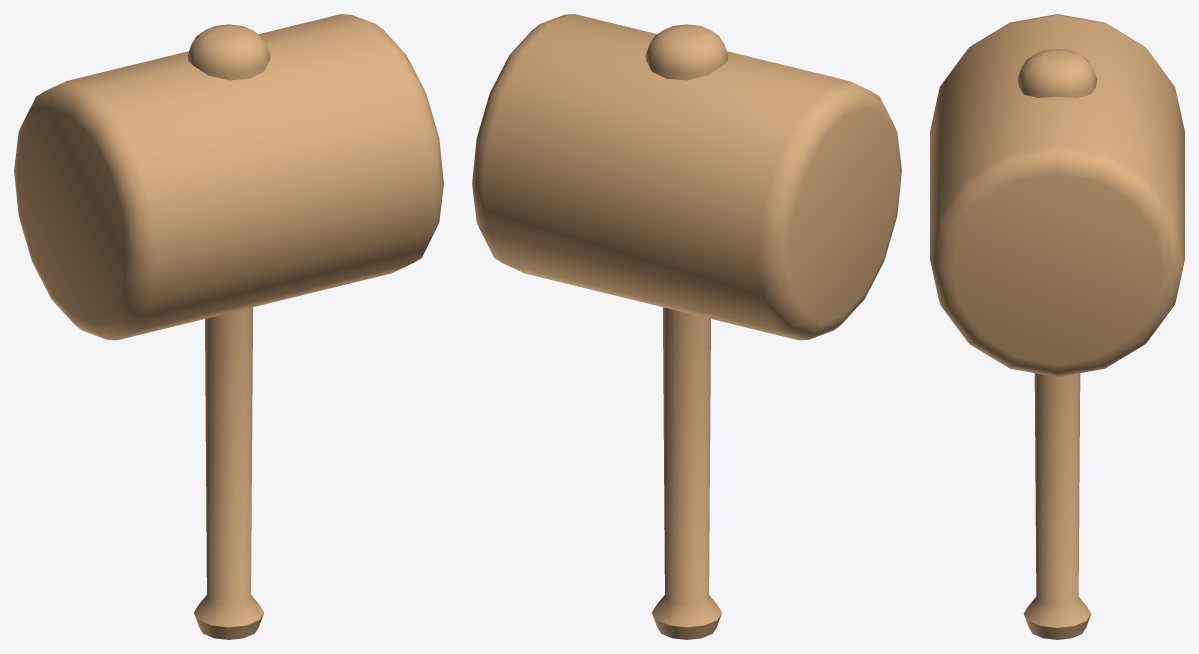
File: hammer.gltf.glb
3 renders of one model, left to right at view 1: azimuth 30°, elevation 25°; view 2: azimuth 150°, elevation 25°; view 3: azimuth 270°, elevation 25°, orthographic. The views are drawn at different scales.
Visible parts, largest first — view 1: hammer; view 2: hammer; view 3: hammer.
Part boxes in pixels (<box>): hammer: <box>14,14,443,639</box>; hammer: <box>472,14,901,639</box>; hammer: <box>930,14,1184,639</box>.
Bounding box in the file's own units: 0.7638 × 1.39 × 0.5576.
